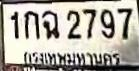1: (10, 10, 20, 39)
2: (66, 9, 81, 39)
7: (117, 8, 133, 39), (82, 9, 96, 39)
9: (100, 8, 115, 39)
A01: (23, 10, 40, 40)
A09: (41, 10, 60, 39)
BKK: (20, 48, 122, 69)
